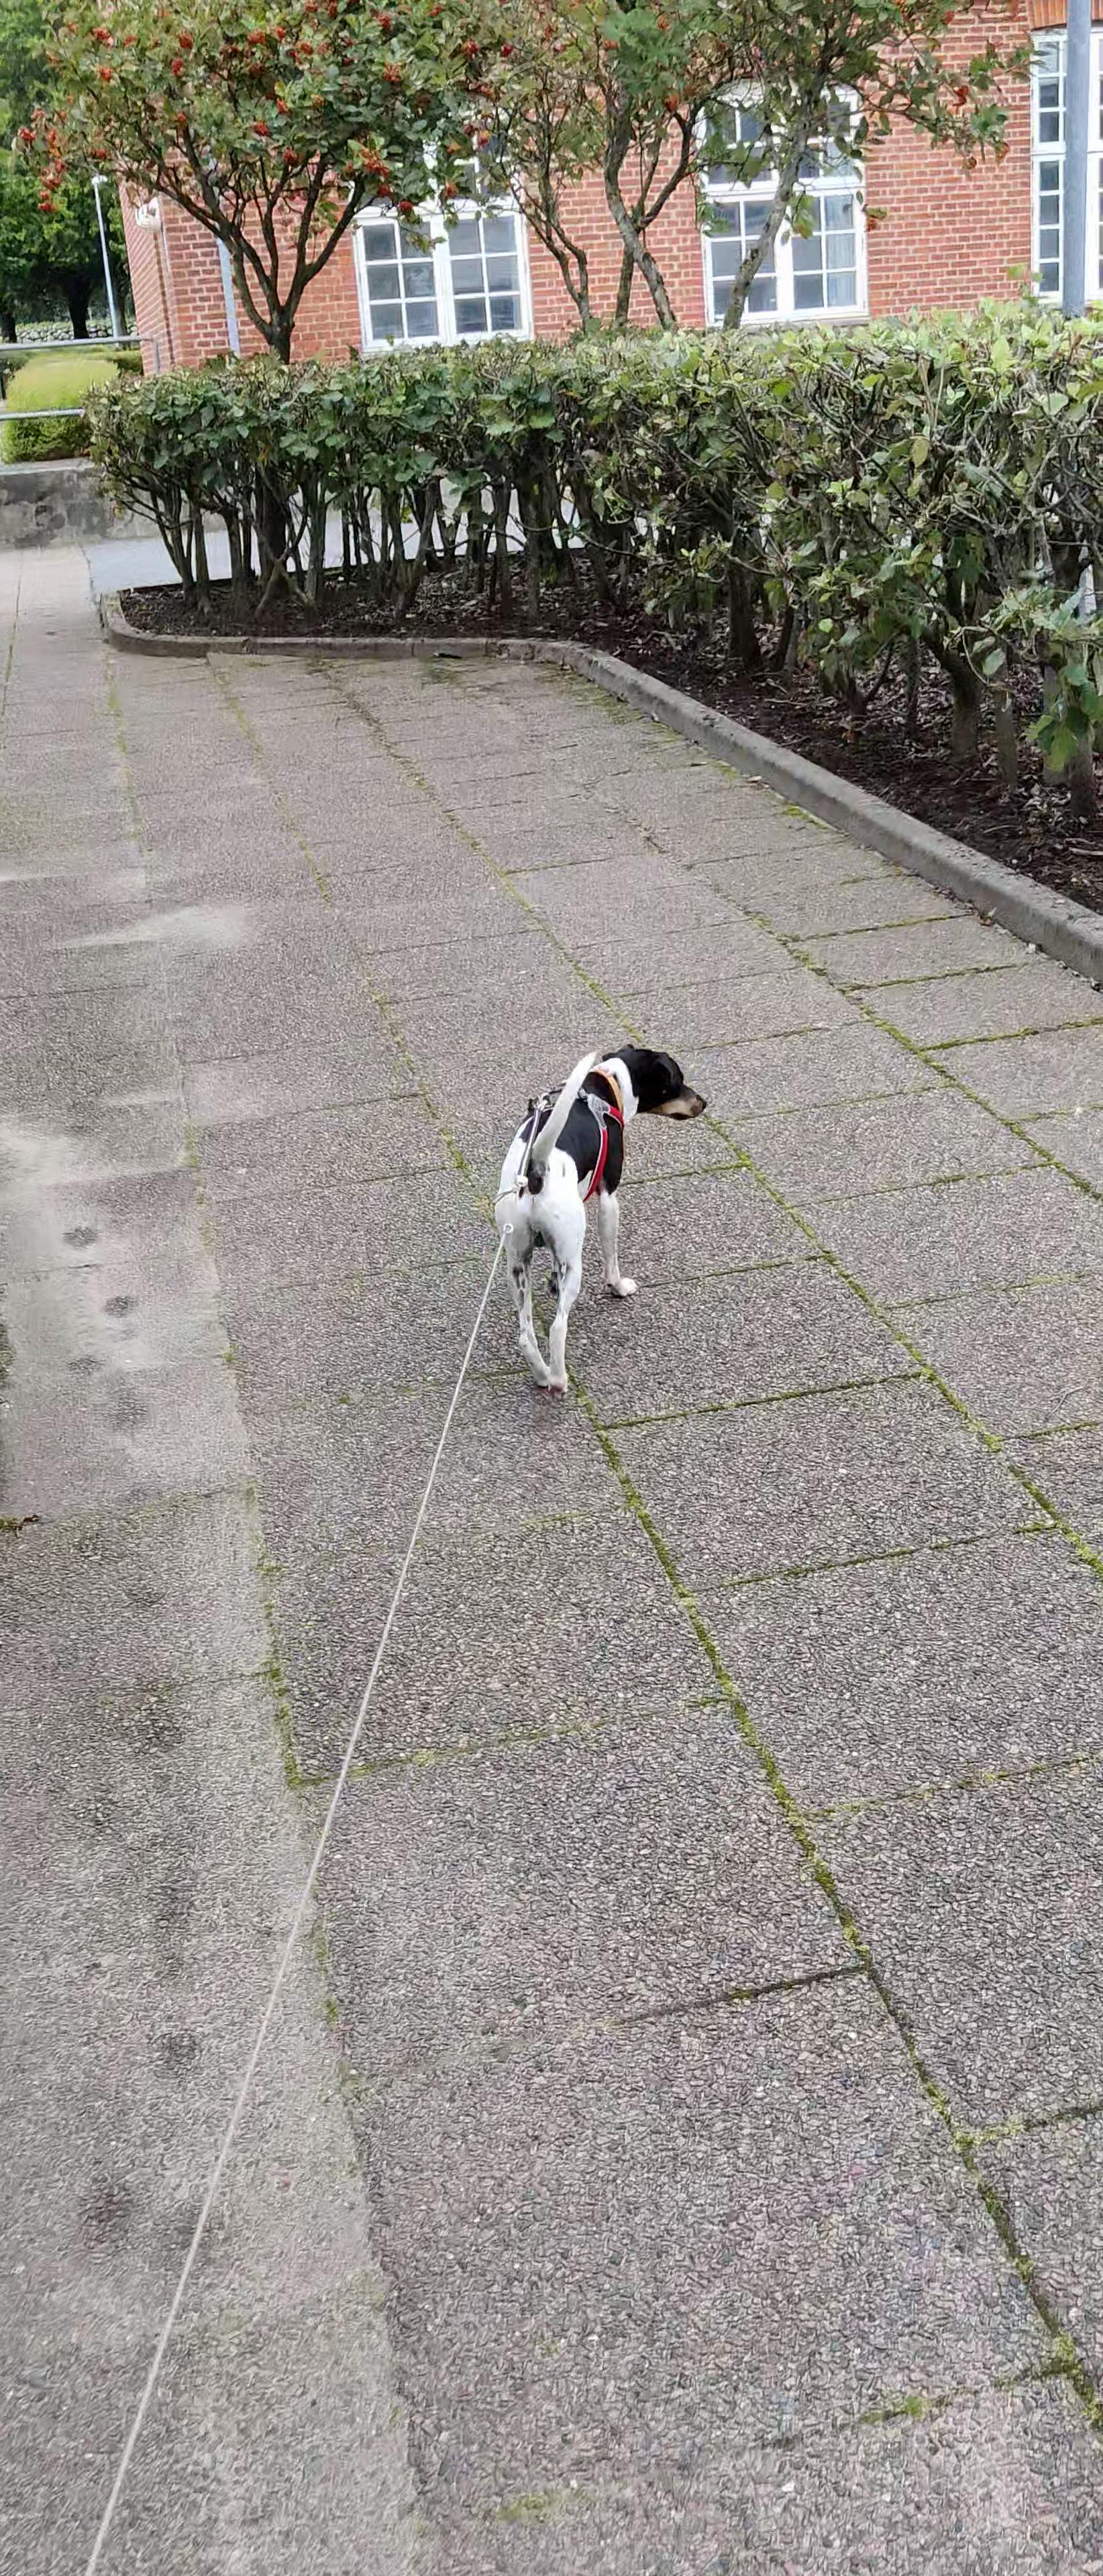Dog: (487, 1035, 713, 1401)
